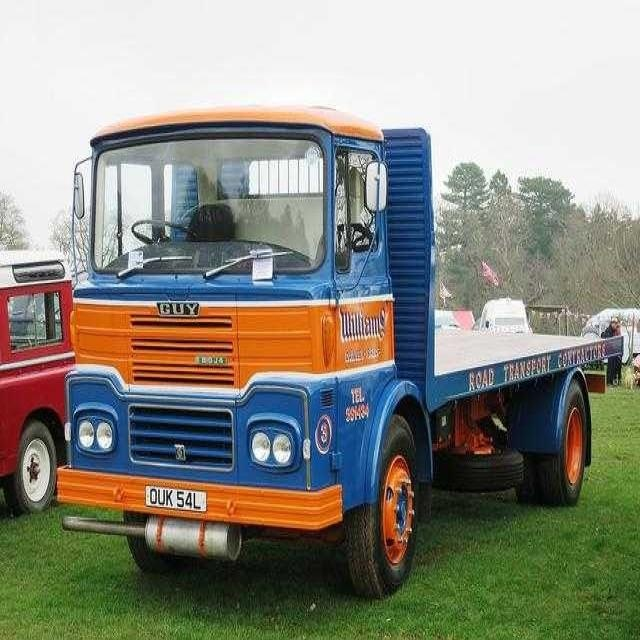Truck: (48, 88, 627, 612)
